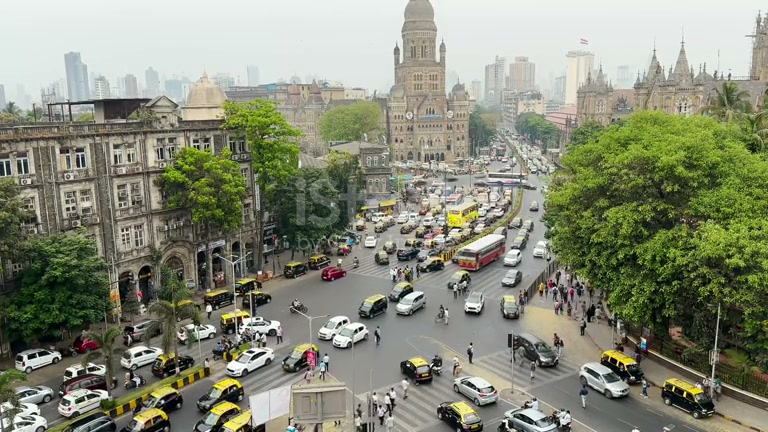bus: (452, 232, 507, 272), (445, 199, 479, 228)
car: (661, 377, 715, 419), (193, 399, 254, 432), (508, 332, 562, 368), (579, 362, 630, 400), (197, 376, 246, 413), (599, 348, 645, 384), (436, 399, 485, 432), (225, 347, 275, 378), (453, 375, 499, 407), (57, 389, 105, 418), (281, 342, 320, 373), (14, 348, 62, 373), (120, 345, 162, 371), (130, 406, 172, 432), (332, 322, 369, 350), (146, 385, 184, 412), (400, 355, 434, 385), (14, 385, 55, 406), (318, 316, 350, 342), (396, 290, 427, 316), (358, 293, 388, 318), (501, 294, 520, 320), (464, 292, 485, 315), (320, 266, 346, 282), (503, 247, 523, 267), (501, 269, 522, 287), (532, 242, 548, 260), (363, 233, 377, 248)
truck: (288, 381, 356, 432), (661, 377, 715, 418)
